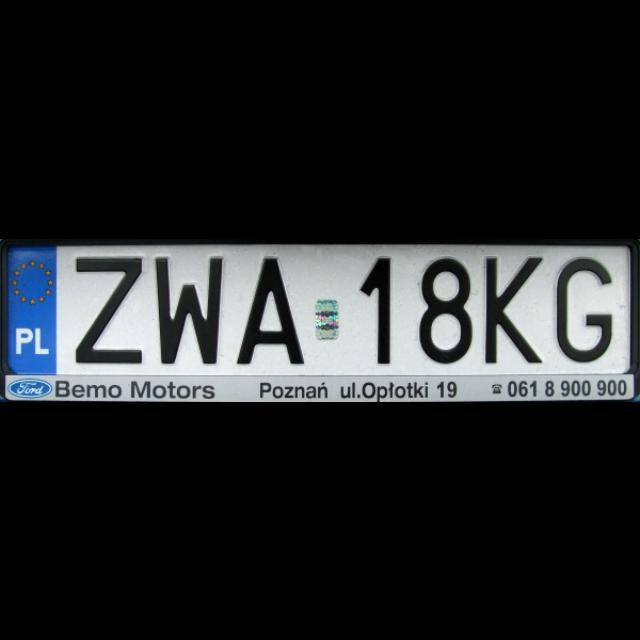license-plates: (0, 242, 640, 402)
